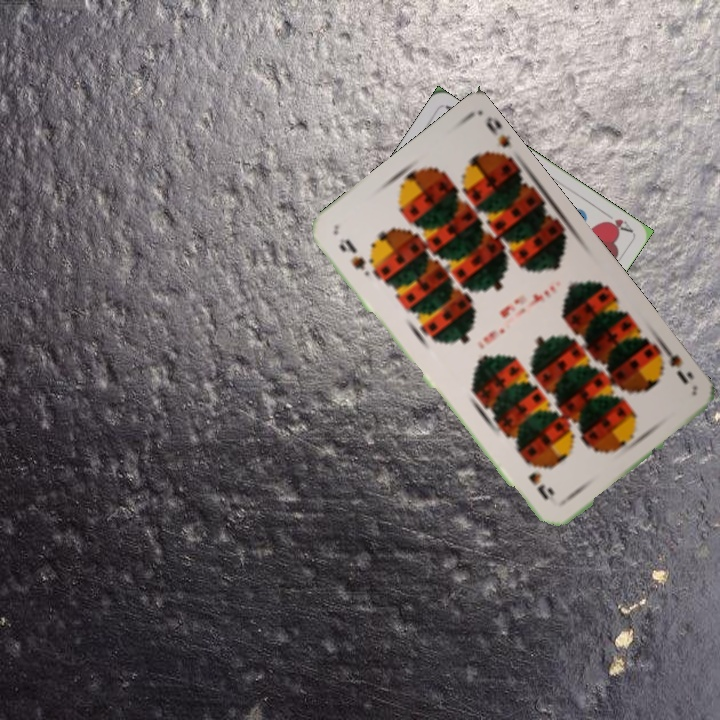HA: (598, 207, 635, 235)
S9: (650, 341, 697, 387), (334, 234, 368, 273)
